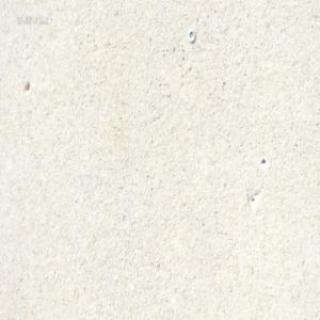Washertrack_idkeyframe: (187, 28, 195, 43)
